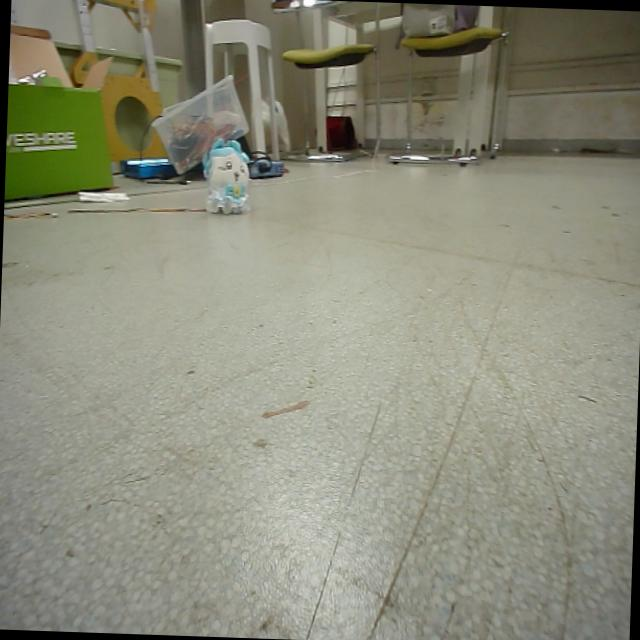xiaoba: (200, 130, 252, 218)
